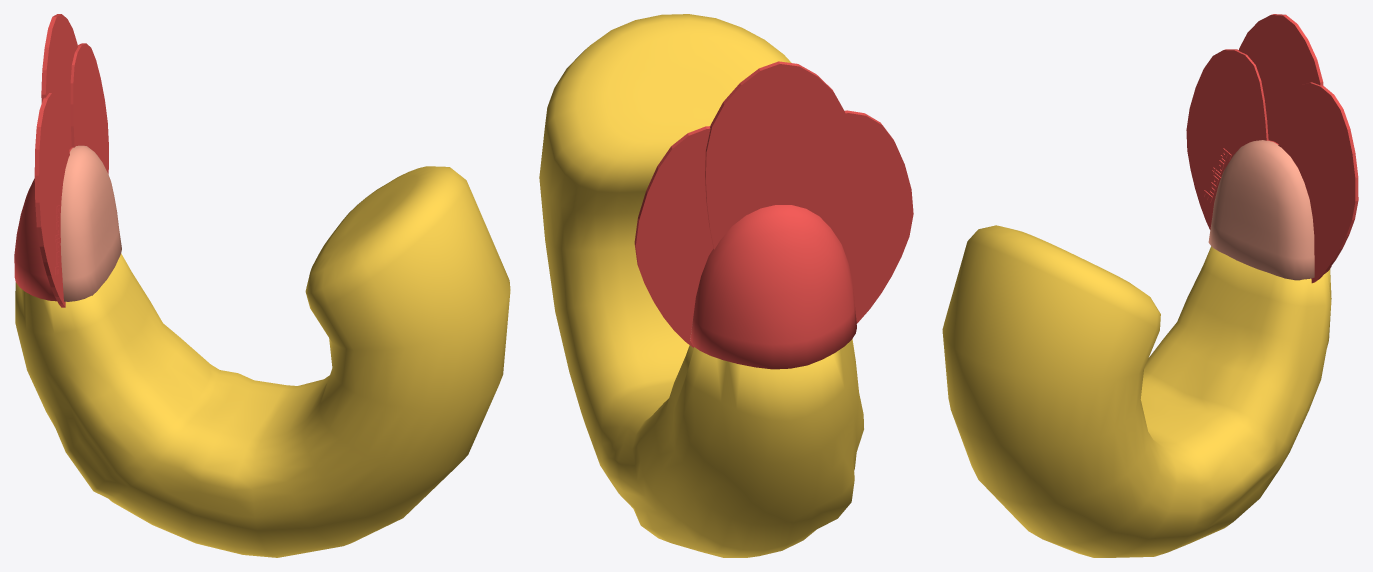
Rendered from fried_shrimp.fbx.
The picture shows the model from 3 angles, left to right: view 1: azimuth 30°, elevation 25°; view 2: azimuth 150°, elevation 25°; view 3: azimuth 270°, elevation 25°; orthographic projection. The views are drawn at different scales.
Visible parts, largest first — view 1: Cube.426; view 2: Cube.426; view 3: Cube.426.
Part boxes in pixels (x1,y1,x2,y2): Cube.426: (14,14,510,557); Cube.426: (539,14,913,557); Cube.426: (942,14,1358,557).
Bounding box in the file's own units: 172 × 214 × 172.
Materials: 1 (1 with a texture image).
